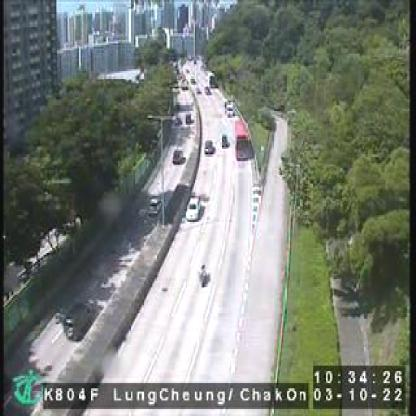Bus: (230, 119, 247, 160)
Car: (64, 302, 93, 340), (183, 196, 199, 218), (147, 196, 161, 213), (204, 138, 213, 152), (225, 102, 234, 116), (172, 149, 182, 161), (220, 134, 228, 148)
